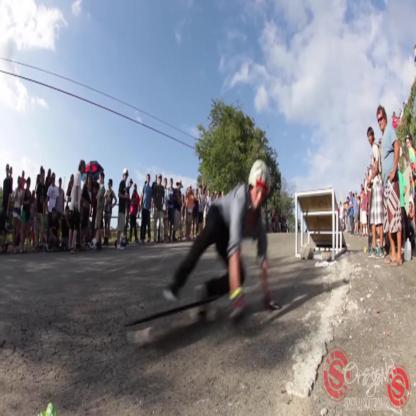Fall_Down: (162, 160, 281, 323)
